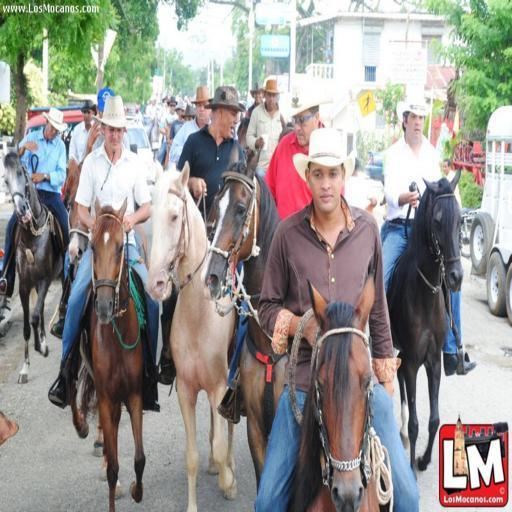horse: (0, 111, 464, 511), (144, 158, 238, 512), (200, 146, 292, 497), (384, 168, 464, 484), (288, 269, 392, 511), (73, 195, 145, 511), (0, 138, 66, 385), (62, 158, 106, 456)
